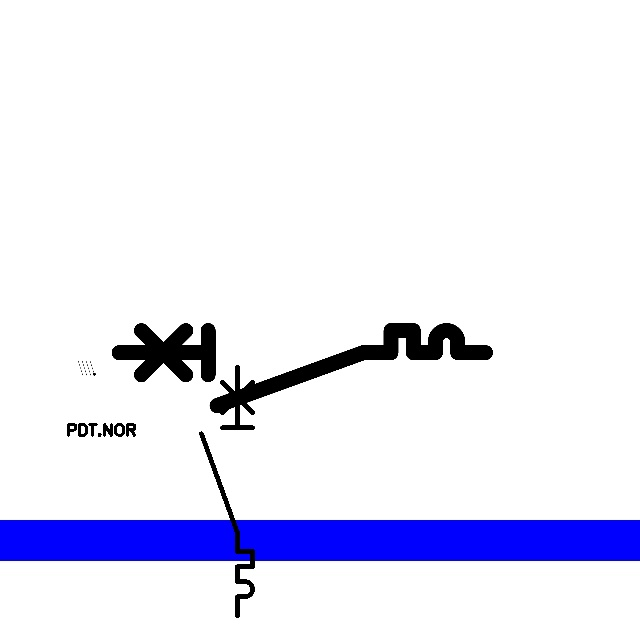interruptor_termomagnetico: (109, 321, 495, 415), (195, 361, 259, 622)
